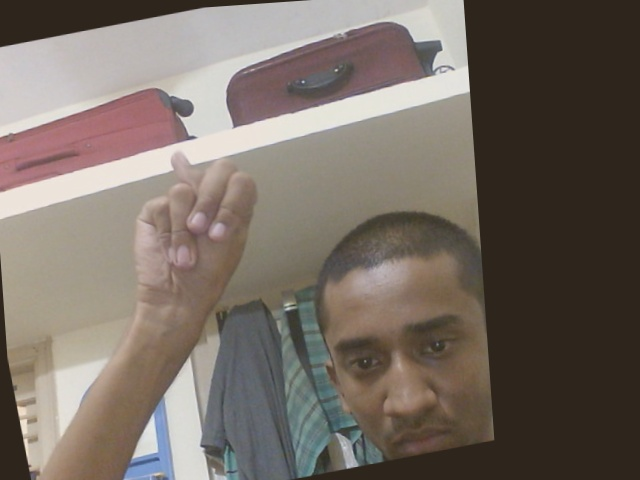hand: (124, 144, 262, 337)
